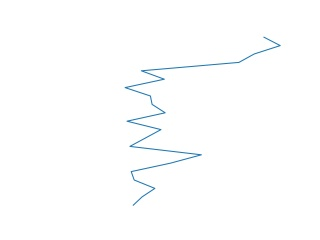crevasseRiverChannelBar: (121, 34, 287, 209)
